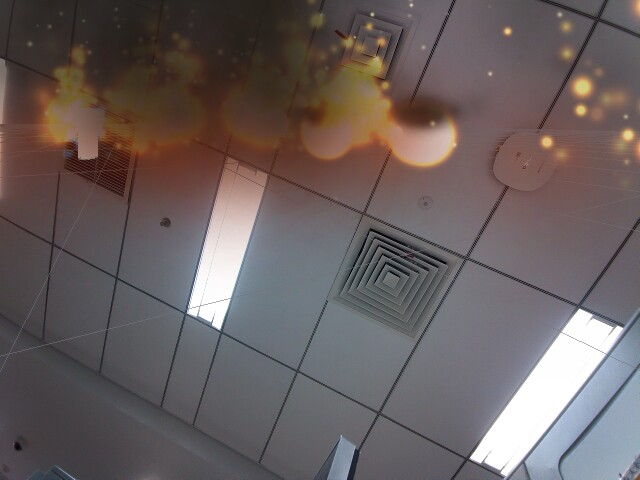fire: (383, 95, 461, 172), (143, 90, 207, 141), (226, 95, 288, 147), (301, 105, 354, 160)
